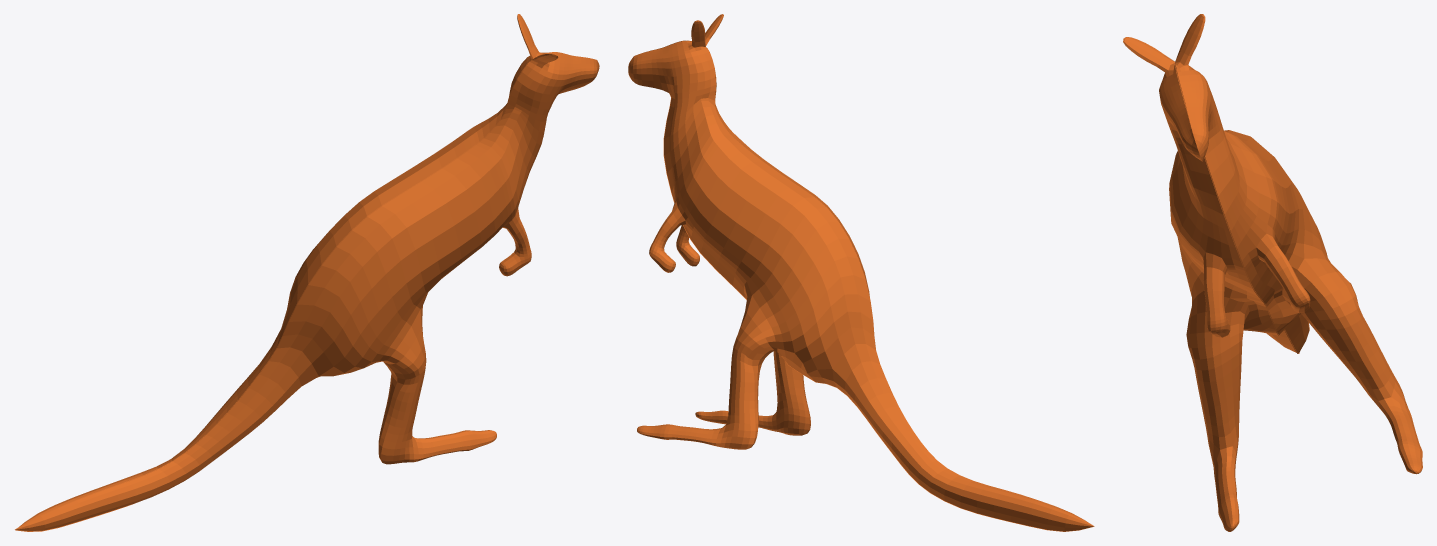
The model's file is kangaroo_hop.fbx.
The picture shows the model from 3 angles, left to right: view 1: azimuth 30°, elevation 25°; view 2: azimuth 150°, elevation 25°; view 3: azimuth 270°, elevation 25°; orthographic projection. The views are drawn at different scales.
Parts seen in each view (by area): view 1: node_id4; view 2: node_id4; view 3: node_id4.
Part boxes in pixels (box(x1,y1,x2,y2)): node_id4: box(15, 14, 599, 531); node_id4: box(628, 14, 1094, 531); node_id4: box(1123, 14, 1422, 531).
Size of the model in its own units: 0.4965 by 0.3759 by 0.1917.
1 material, 1 textured.
